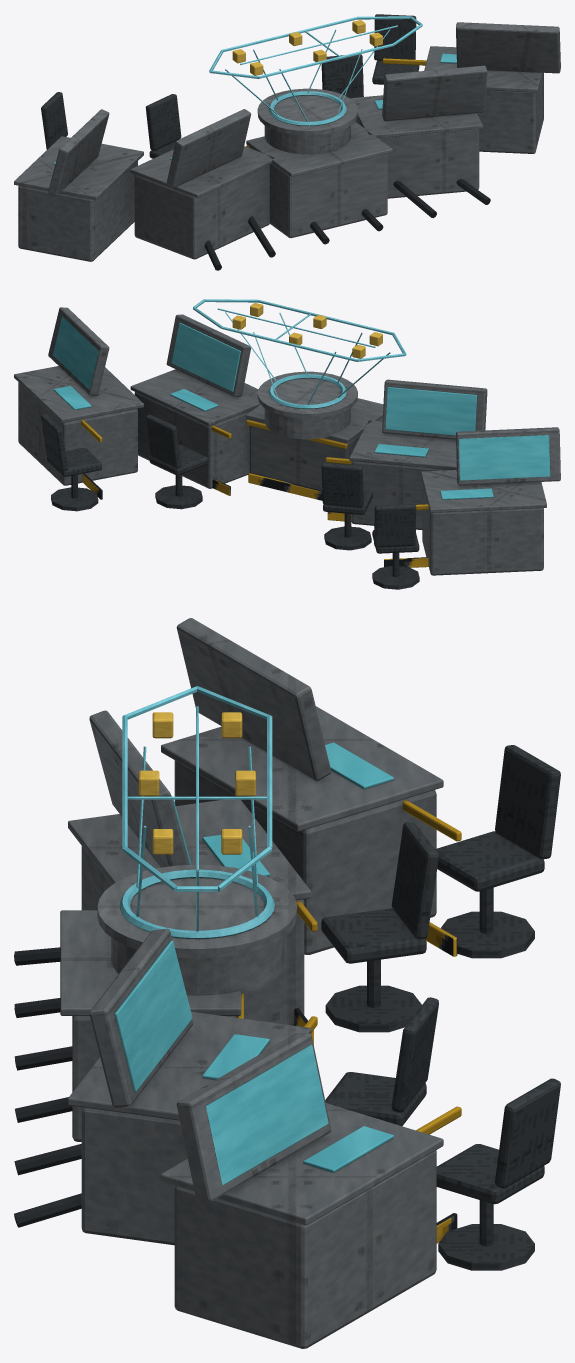
The model's file is base_build_console.glb.
The picture shows the model from 3 angles, top to bottom: view 1: azimuth 30°, elevation 25°; view 2: azimuth 150°, elevation 25°; view 3: azimuth 270°, elevation 25°; orthographic projection. The views are drawn at different scales.
Visible parts, largest first — view 1: base_build_console.001; view 2: base_build_console.001; view 3: base_build_console.001.
Part boxes in pixels (x1=…): base_build_console.001: x1=14, y1=14, x2=560, y2=270; base_build_console.001: x1=14, y1=299, x2=560, y2=589; base_build_console.001: x1=14, y1=618, x2=560, y2=1348.
Bounding box in the file's own units: 7.12 × 2.06 × 3.17.
Materials: 8 (8 with a texture image).
